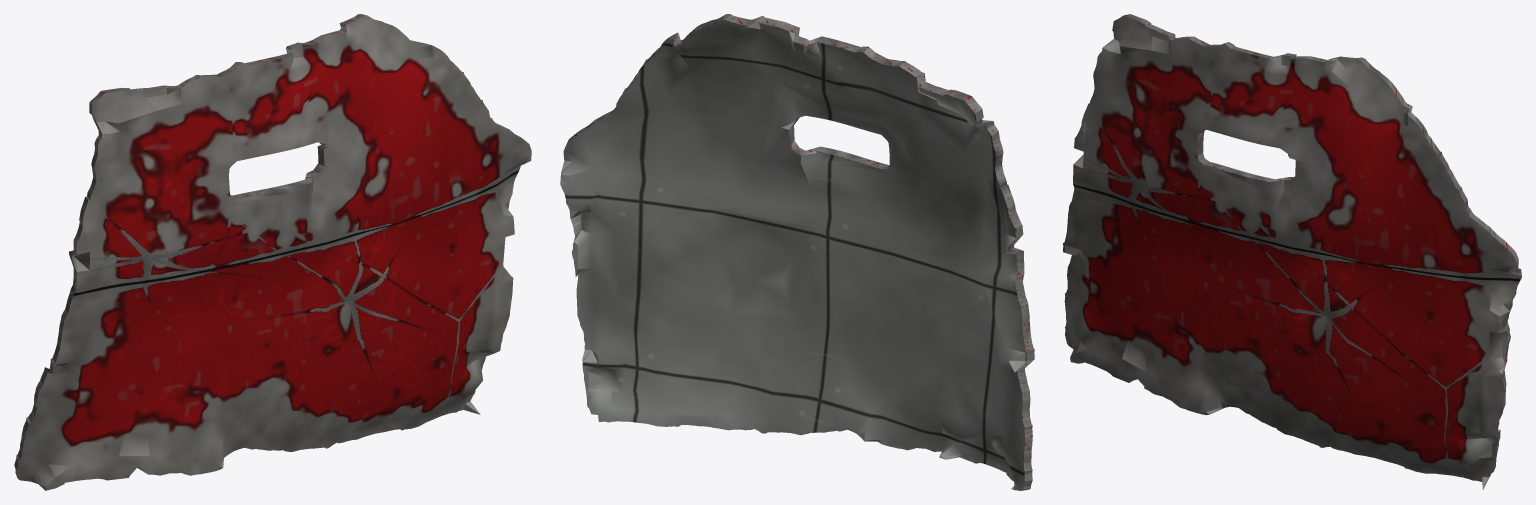
Rendered from baymax_plating_shard_lod1.glb.
The picture shows the model from 3 angles, left to right: view 1: azimuth 30°, elevation 25°; view 2: azimuth 150°, elevation 25°; view 3: azimuth 330°, elevation 25°; orthographic projection. The views are drawn at different scales.
Visible parts, largest first — view 1: baymax_plating_shard; view 2: baymax_plating_shard; view 3: baymax_plating_shard.
Boxes of the visible parts, x1=… form: baymax_plating_shard: x1=14, y1=14, x2=531, y2=490; baymax_plating_shard: x1=560, y1=14, x2=1034, y2=490; baymax_plating_shard: x1=1063, y1=14, x2=1521, y2=489.
Bounding box in the file's own units: 0.7361 × 0.6152 × 0.1133.
3 materials, 3 textured.
